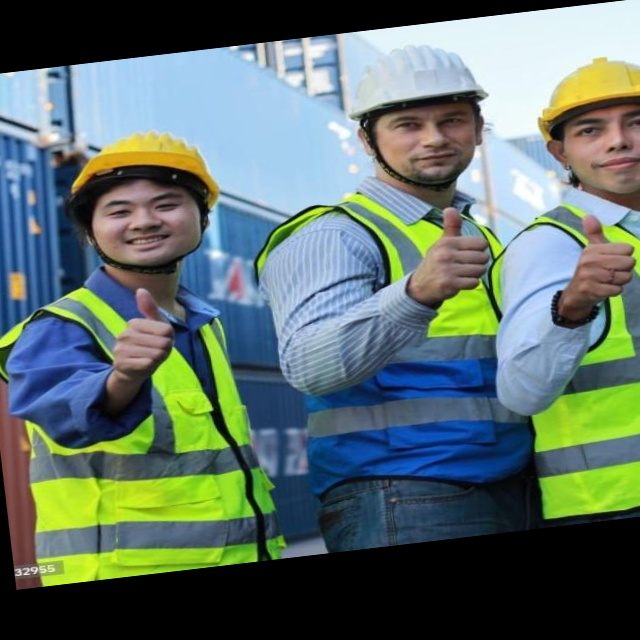Con_Casco: (340, 36, 503, 195), (522, 47, 640, 202)
Con_Chaleco: (0, 274, 296, 590), (252, 178, 538, 496)
